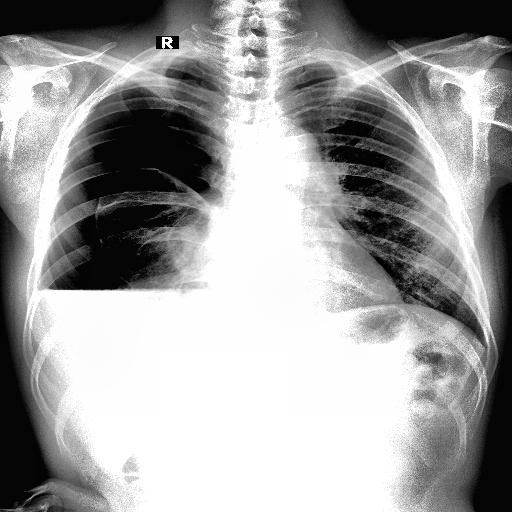10- Pleural effusion: (28, 282, 199, 360), (24, 288, 234, 348), (26, 280, 228, 341)
11- Pleural thickening: (26, 280, 228, 341)
12- Pneumothorax: (28, 58, 236, 288), (42, 60, 224, 290), (39, 61, 215, 289)
7- Lung Opacity: (95, 163, 220, 289)
